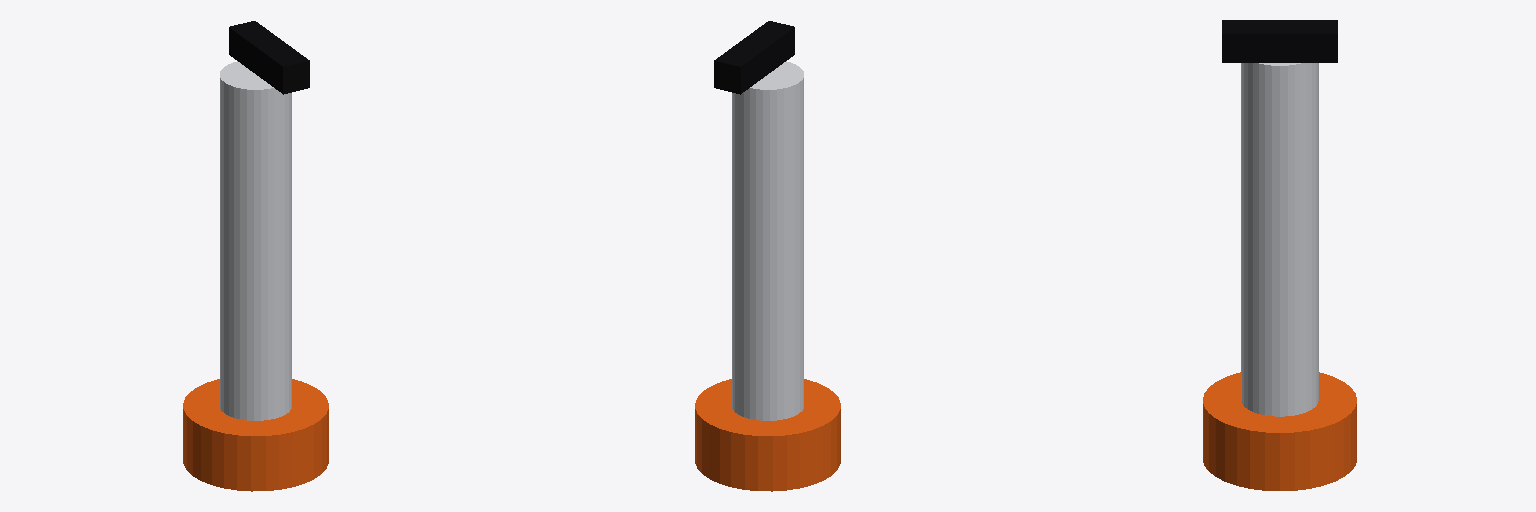
URDF robot description (arm_2dof):
<?xml version="1.0" ?>
<!-- Generated by Robot Studio 1.0.0 from the 'arm' template (Serial arm (N revolute joints)).
     Parameters are xacro properties below; sensors are switched with arguments, e.g.
       xacro arm_2dof.urdf.xacro use_lidar:=false
     Software-generated: check masses, dimensions and limits against the real robot. -->
<robot name="arm_2dof">
  <material name="arm">
    <color rgba="0.86 0.87 0.89 1"/>
  </material>
  <material name="joint">
    <color rgba="0.92 0.42 0.12 1"/>
  </material>
  <material name="sensor">
    <color rgba="0.08 0.08 0.09 1"/>
  </material>
  <!-- A massless root fixed to the world (KDL ignores the inertia of a root link). -->
  <link name="world"/>
  <link name="base_link">
    <inertial>
      <origin rpy="0 0 0" xyz="0 0 0.025"/>
      <mass value="1"/>
      <inertia ixx="0.0011083333333333333" ixy="0" ixz="0" iyy="0.0011083333333333333" iyz="0" izz="0.0018"/>
    </inertial>
    <visual>
      <origin rpy="0 0 0" xyz="0 0 0.025"/>
      <geometry>
        <cylinder length="0.05" radius="0.06"/>
      </geometry>
      <material name="joint"/>
    </visual>
    <collision>
      <origin rpy="0 0 0" xyz="0 0 0.025"/>
      <geometry>
        <cylinder length="0.05" radius="0.06"/>
      </geometry>
    </collision>
  </link>
  <joint name="world_joint" type="fixed">
    <parent link="world"/>
    <child link="base_link"/>
    <origin rpy="0 0 0" xyz="0 0 0"/>
  </joint>
  <link name="link_1">
    <inertial>
      <origin rpy="0 0 0" xyz="0 0 0.075"/>
      <mass value="0.5"/>
      <inertia ixx="0.00105" ixy="0" ixz="0" iyy="0.00105" iyz="0" izz="0.000225"/>
    </inertial>
    <visual>
      <origin rpy="0 0 0" xyz="0 0 0.075"/>
      <geometry>
        <cylinder length="0.15" radius="0.03"/>
      </geometry>
      <material name="arm"/>
    </visual>
    <collision>
      <origin rpy="0 0 0" xyz="0 0 0.075"/>
      <geometry>
        <cylinder length="0.15" radius="0.03"/>
      </geometry>
    </collision>
  </link>
  <joint name="joint_1" type="revolute">
    <parent link="base_link"/>
    <child link="link_1"/>
    <origin rpy="0 0 0" xyz="0 0 0.05"/>
    <axis xyz="0 0 1"/>
    <limit effort="20" lower="-2.9" upper="2.9" velocity="2"/>
  </joint>
  <link name="link_2">
    <inertial>
      <origin rpy="0 0 0" xyz="0 0 0.075"/>
      <mass value="0.5"/>
      <inertia ixx="0.00105" ixy="0" ixz="0" iyy="0.00105" iyz="0" izz="0.000225"/>
    </inertial>
    <visual>
      <origin rpy="0 0 0" xyz="0 0 0.075"/>
      <geometry>
        <cylinder length="0.15" radius="0.03"/>
      </geometry>
      <material name="arm"/>
    </visual>
    <collision>
      <origin rpy="0 0 0" xyz="0 0 0.075"/>
      <geometry>
        <cylinder length="0.15" radius="0.03"/>
      </geometry>
    </collision>
  </link>
  <joint name="joint_2" type="revolute">
    <parent link="link_1"/>
    <child link="link_2"/>
    <origin rpy="0 0 0" xyz="0 0 0.15"/>
    <axis xyz="0 1 0"/>
    <limit effort="20" lower="-2.9" upper="2.9" velocity="2"/>
  </joint>
  <link name="tool0"/>
  <joint name="tool0_joint" type="fixed">
    <parent link="link_2"/>
    <child link="tool0"/>
    <origin rpy="0 0 0" xyz="0 0 0.15"/>
  </joint>
  <link name="camera_link">
    <inertial>
      <origin rpy="0 0 0" xyz="0 0 0"/>
      <mass value="0.06"/>
      <inertia ixx="4.3624999999999997e-05" ixy="0" ixz="0" iyy="6.25e-06" iyz="0" izz="4.3624999999999997e-05"/>
    </inertial>
    <visual>
      <origin rpy="0 0 0" xyz="0 0 0"/>
      <geometry>
        <box size="0.025 0.09 0.025"/>
      </geometry>
      <material name="sensor"/>
    </visual>
    <collision>
      <origin rpy="0 0 0" xyz="0 0 0"/>
      <geometry>
        <box size="0.025 0.09 0.025"/>
      </geometry>
    </collision>
  </link>
  <joint name="camera_joint" type="fixed">
    <parent link="tool0"/>
    <child link="camera_link"/>
    <origin rpy="0 -1.5707963267948966 0" xyz="0.0125 0 0.0125"/>
  </joint>
  <link name="camera_optical_frame"/>
  <joint name="camera_optical_joint" type="fixed">
    <parent link="camera_link"/>
    <child link="camera_optical_frame"/>
    <origin rpy="-1.5707963267948966 0 -1.5707963267948966" xyz="0 0 0"/>
  </joint>
</robot>

--- Render facts (derived) ---
3 views of the same robot in one strip: view 1: azimuth 30°, elevation 25°; view 2: azimuth 150°, elevation 25°; view 3: azimuth 270°, elevation 25° (orthographic).
Model arm_2dof with 7 links and 6 joints (2 revolute, 4 fixed), rooted at world, posed every joint at zero.
Visible links, largest first — view 1: link_2, base_link, link_1, camera_link; view 2: link_2, base_link, link_1, camera_link; view 3: link_1, link_2, base_link, camera_link.
Boxes of the visible links, <box> form: link_2: <box>220,61,291,254</box>; base_link: <box>183,379,328,491</box>; link_1: <box>220,243,291,420</box>; camera_link: <box>229,21,309,94</box>; link_2: <box>732,61,803,254</box>; base_link: <box>695,379,840,491</box>; link_1: <box>732,243,803,420</box>; camera_link: <box>714,21,794,94</box>; link_1: <box>1241,226,1318,416</box>; link_2: <box>1241,63,1318,240</box>; base_link: <box>1203,372,1356,490</box>; camera_link: <box>1222,20,1337,62</box>.
Bounding box of the posed robot: 0.12 × 0.12 × 0.375 m (x, y, z).
Geometry: primitives only (box / cylinder / sphere), no mesh files.
